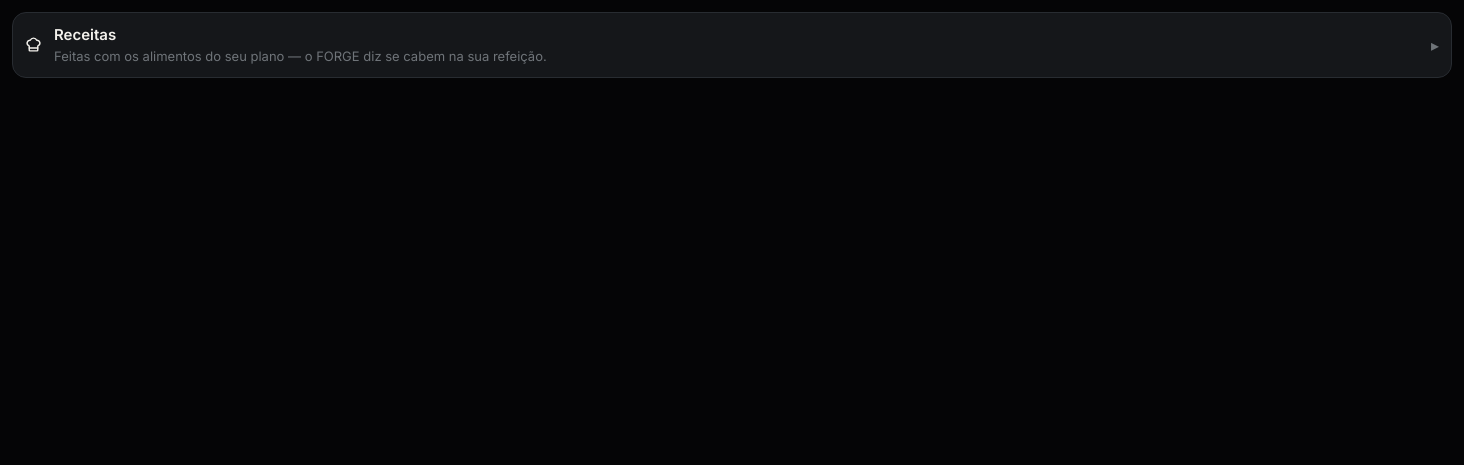
Test: quando nao cabe, diz quanto passa
Click the button with test id "abrir-receitas" at (85, 34), box [12,12,1452,78]
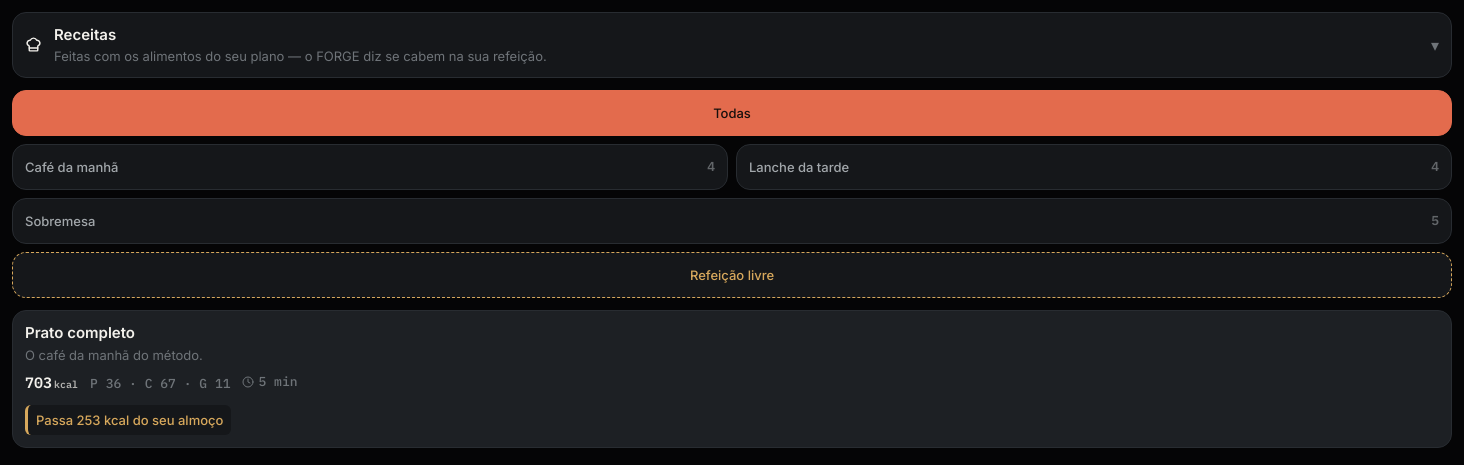
Result: the text with test id "encaixe-prato-completo" shows "Passa 253" at [36,412,223,428]
